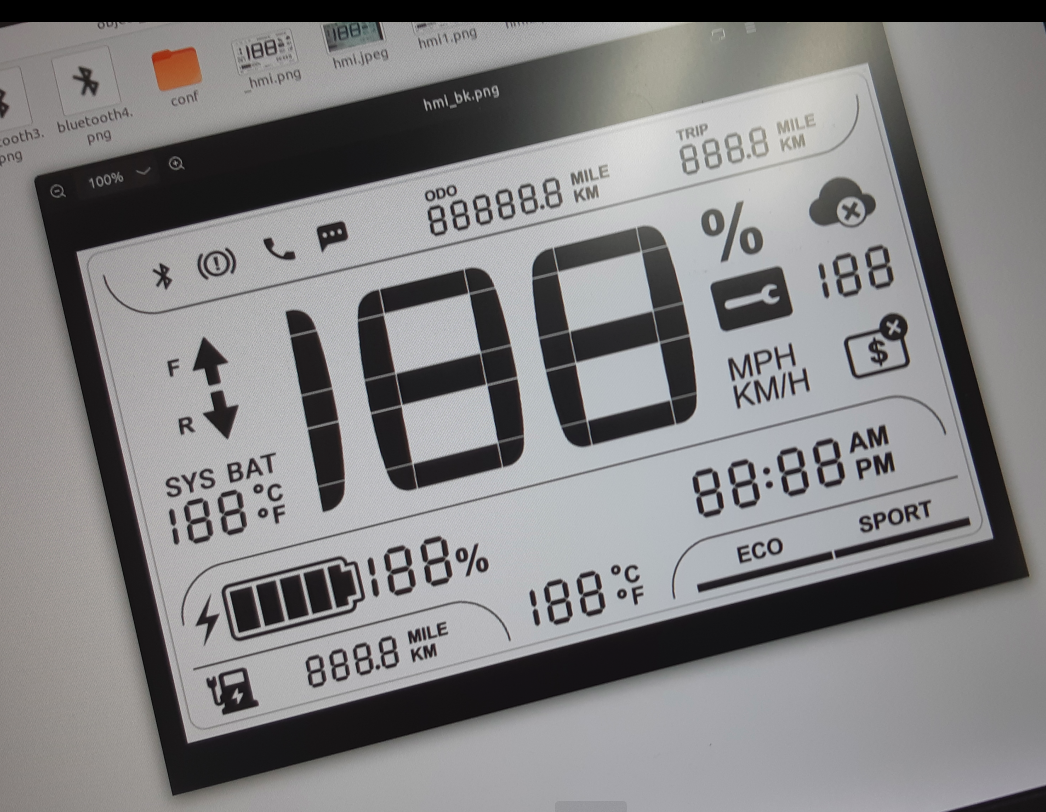bluetooth_on: (148, 257, 179, 294)
braking_on: (192, 245, 239, 283)
calling_on: (258, 234, 299, 267)
connection_lost: (804, 175, 880, 231)
error_code: (708, 264, 796, 334)
low_battery: (203, 664, 262, 717)
sms_on: (312, 217, 354, 258)
vin_id: (842, 310, 913, 382)
